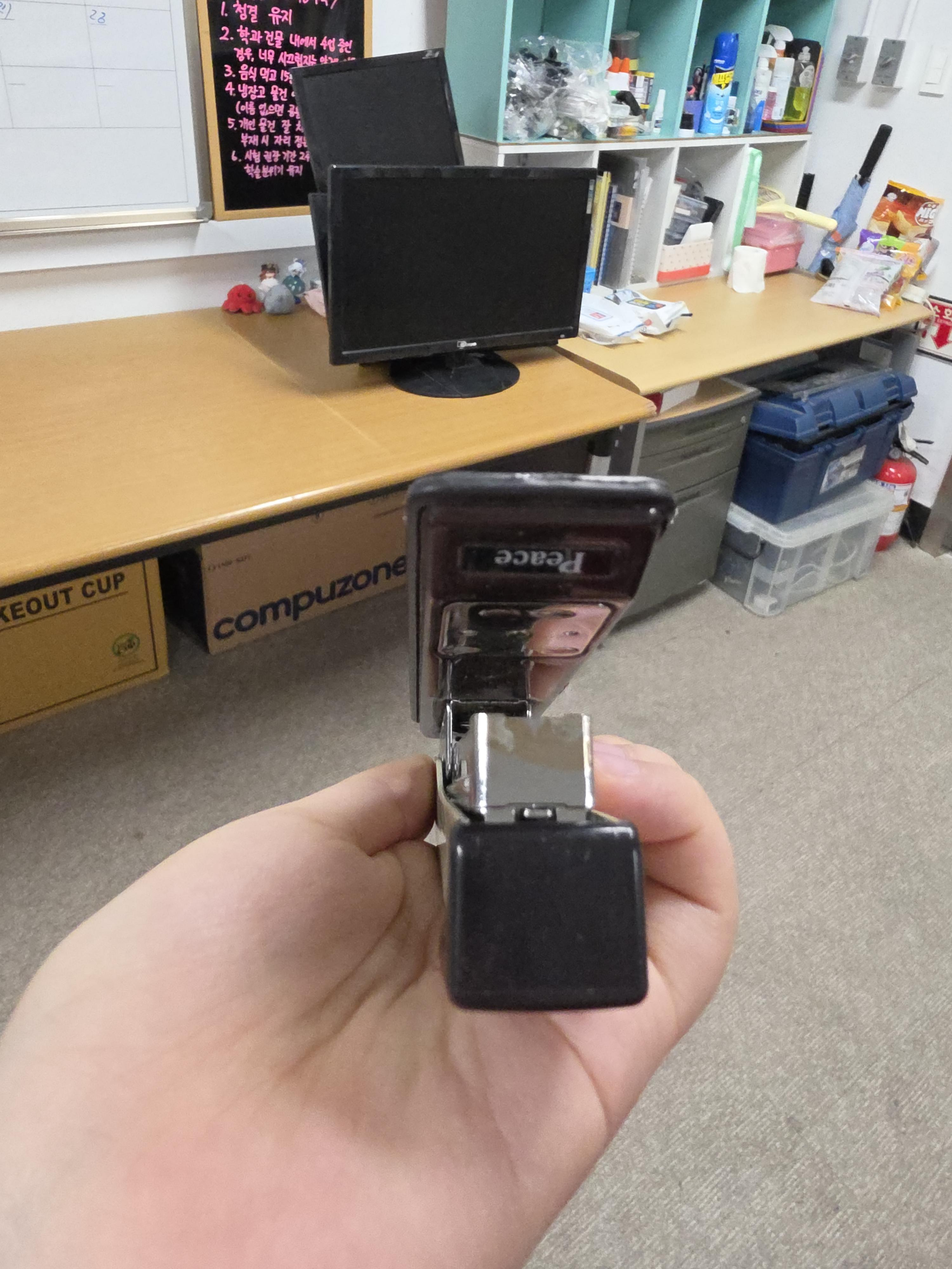stapler: (402, 471, 678, 1013)
tissue: (656, 220, 715, 282), (730, 245, 767, 294)
